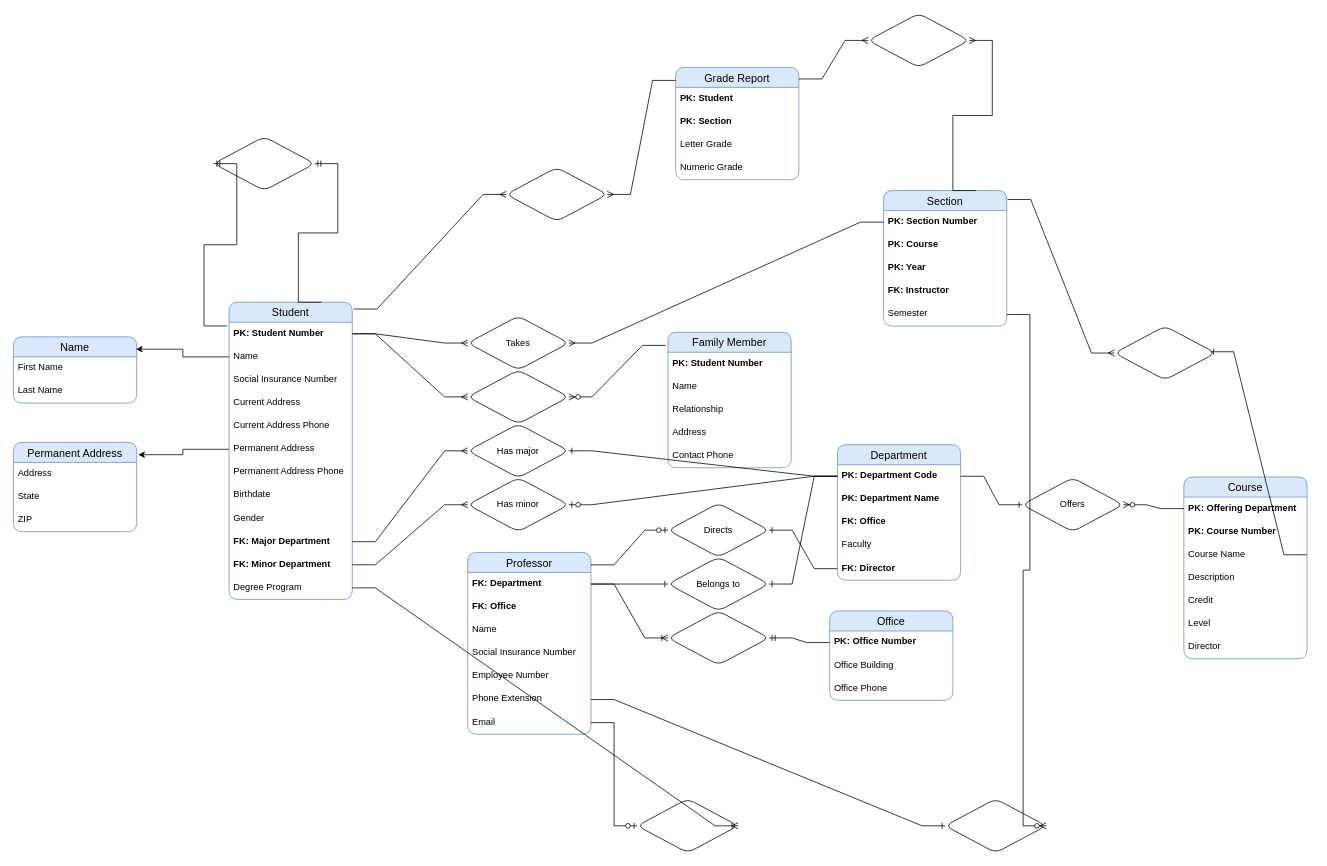
This 1327x866 diagram has some shape labels left out. Here are the shapes that lost their labels. From the top down, the centre of each, then its label:
At [918,40]: "Is produced by".
At [264,163]: "Is buddy with".
At [556,194]: "Is given".
At [1165,352]: "Is instance of".
At [518,396]: "Is related to".
At [718,637]: "Works in".
At [687,825]: "Mentors".
At [995,825]: "Instructs".
